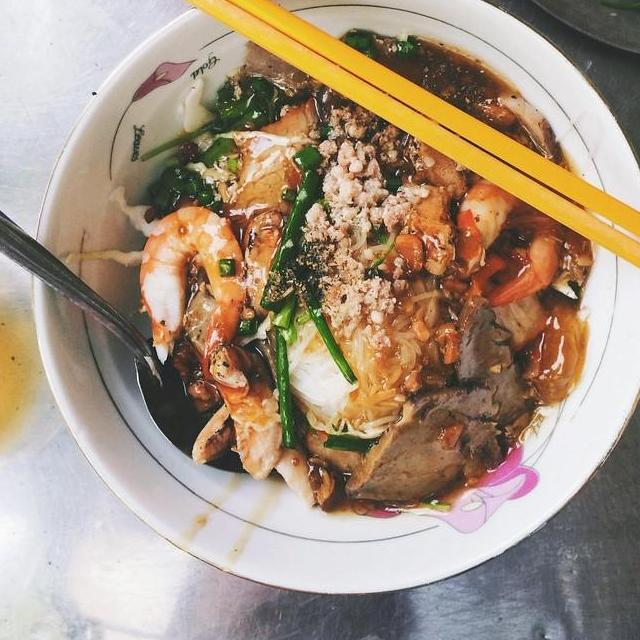thit bam: (297, 98, 435, 357)
tom: (131, 195, 253, 408), (443, 151, 566, 309)
